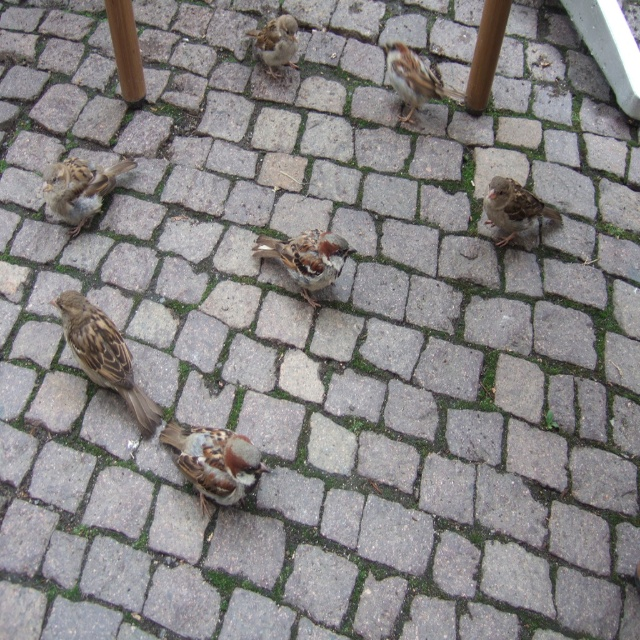Sparrow: (50, 291, 166, 438), (159, 418, 270, 518), (251, 228, 357, 310), (40, 156, 138, 238), (377, 38, 467, 123), (482, 175, 564, 249), (244, 12, 300, 83)
